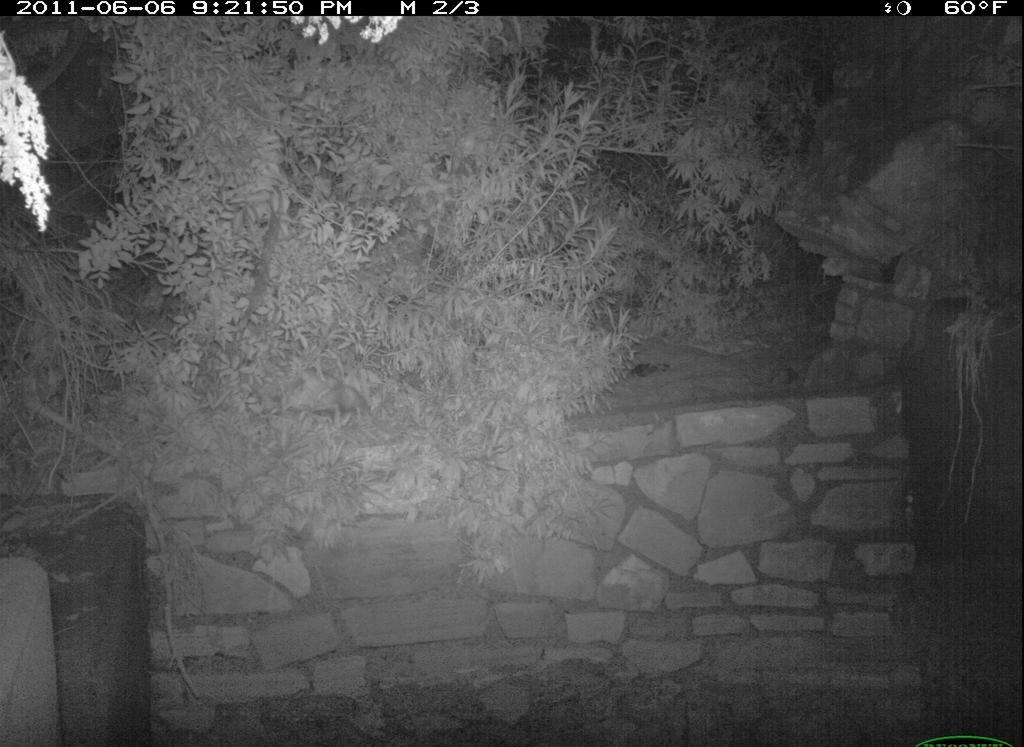opossum: (242, 360, 390, 442)
